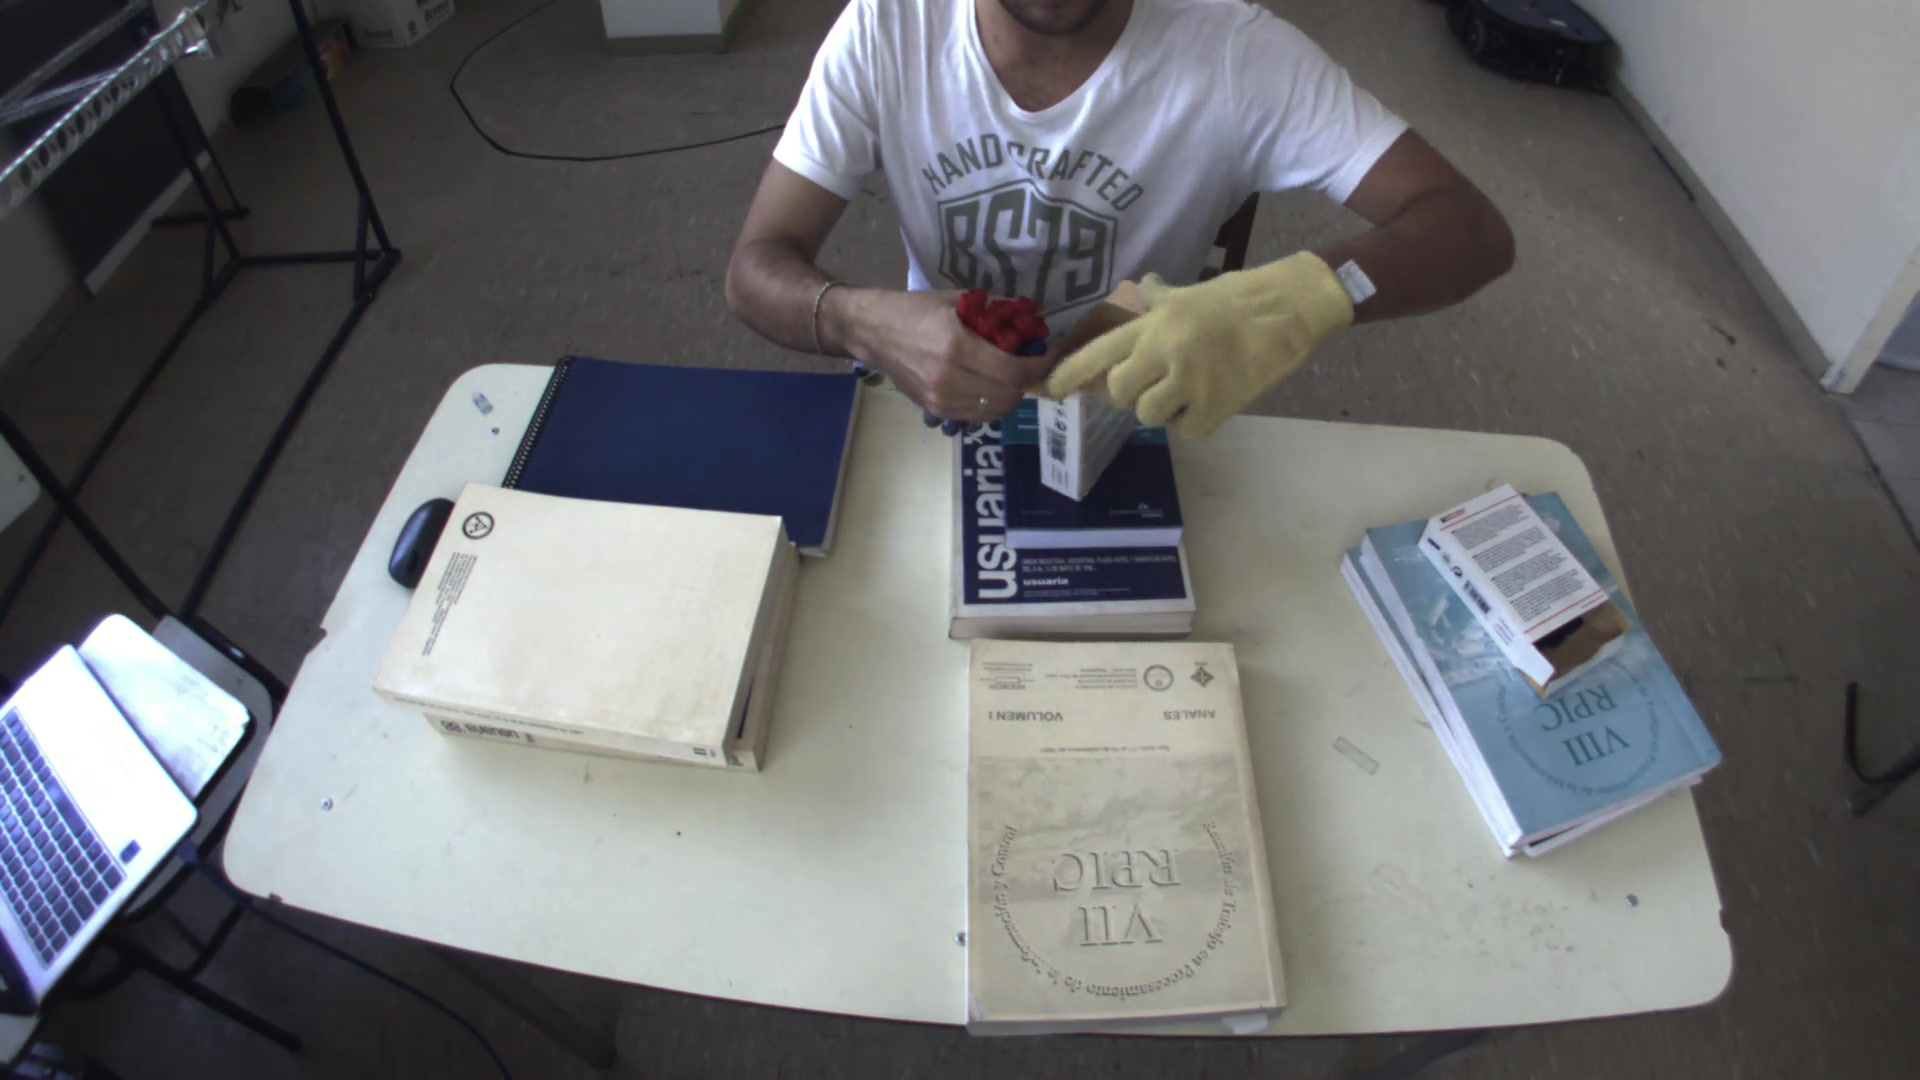hand: (1025, 241, 1379, 433), (843, 273, 1059, 431)
